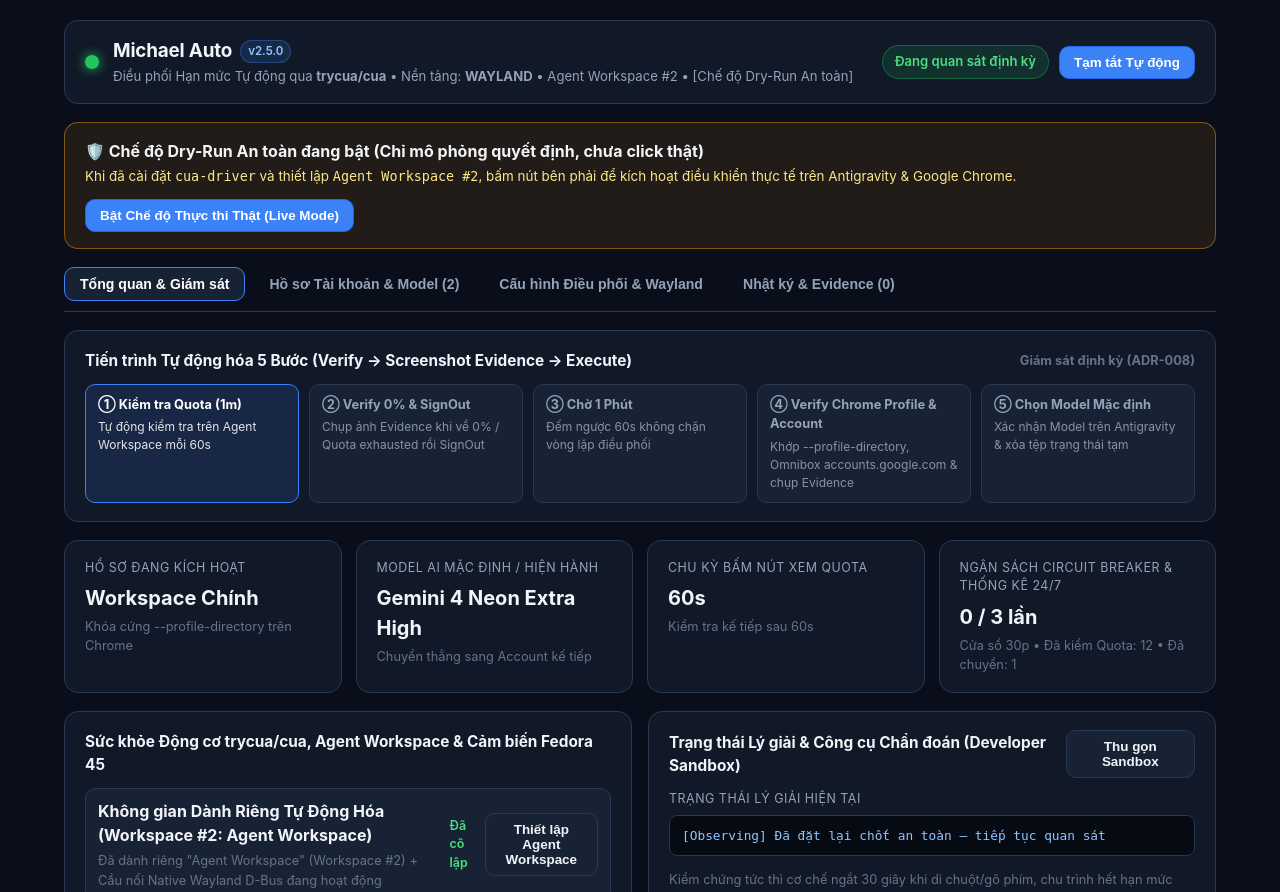
Test: Michael Auto Desktop Dashboard v2.5 Production › allows collapsing and expanding the Developer Sandbox panel safely
The width and height of the screenshot is (1280, 892).
Click the button with test id "sandbox-panel-toggle": point(1130, 754) [1066,730,1195,778]
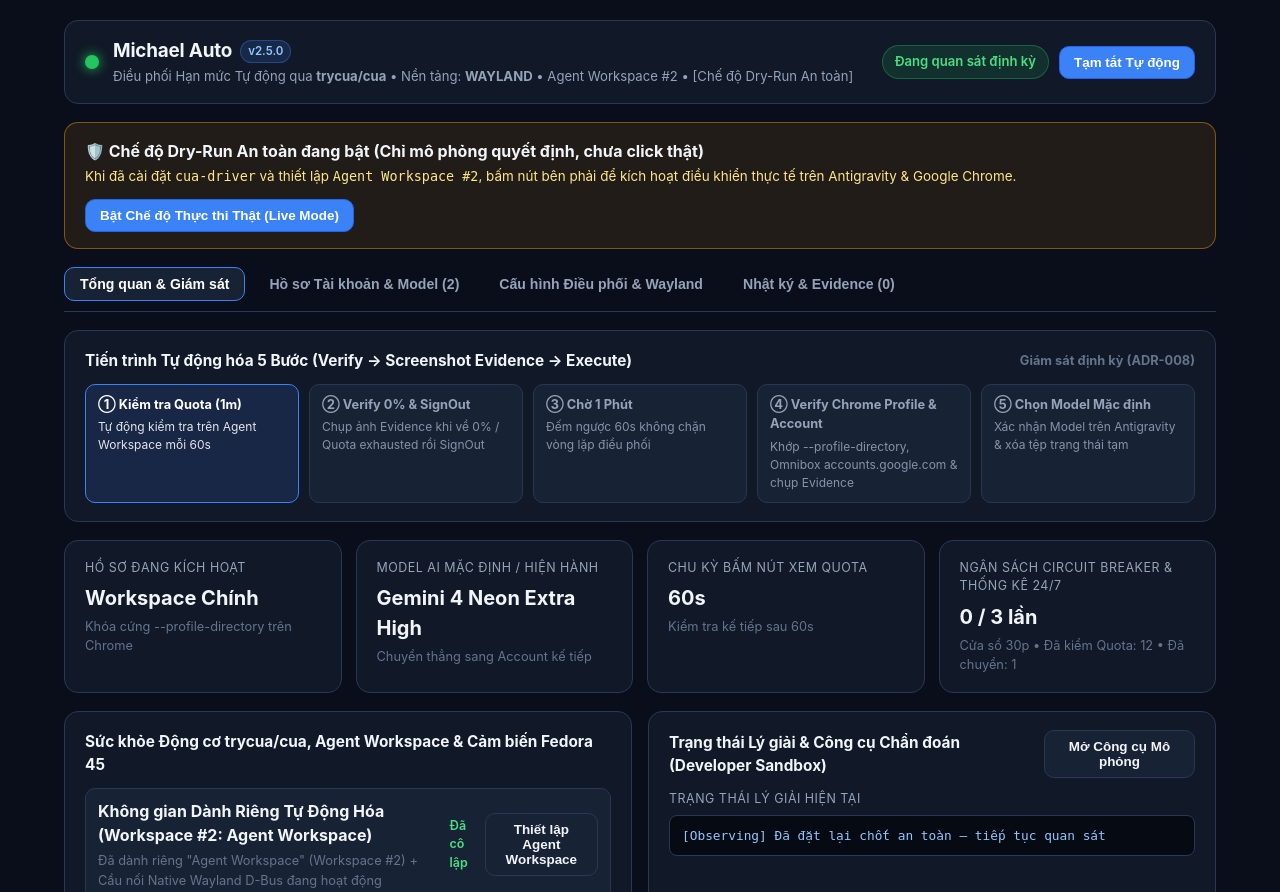
Click the button with test id "sandbox-panel-toggle": point(1119, 754) [1044,730,1195,778]
(page scrolled)
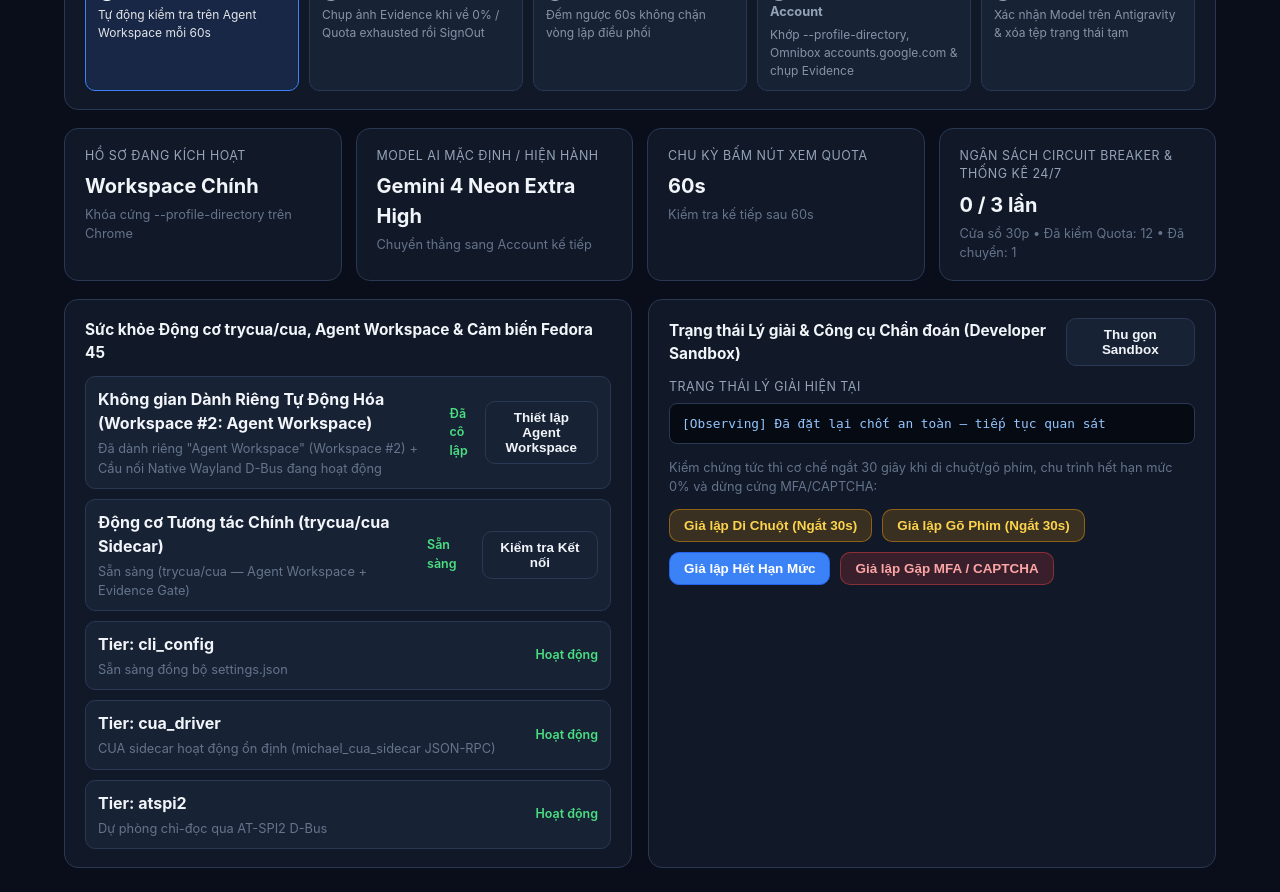
Check: the element with test id "sandbox-panel-body" is shown, box [669,458,1195,585]
